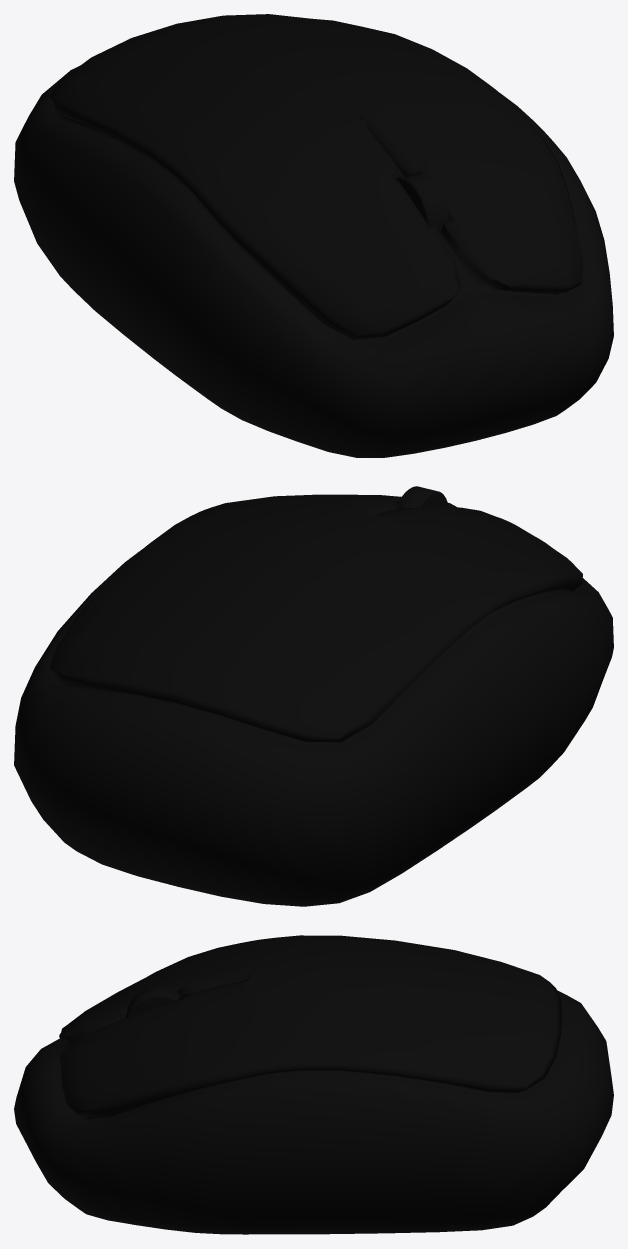
File: MouseV2.fbx
3 views of the same model, one above another, from view 1: azimuth 30°, elevation 25°; view 2: azimuth 150°, elevation 25°; view 3: azimuth 270°, elevation 25° (orthographic). The views are drawn at different scales.
Parts seen in each view (by area): view 1: Cube; view 2: Cube; view 3: Cube.
Boxes of the visible parts, x1,y1,x2,y2 form: Cube: (14, 14, 613, 457); Cube: (14, 486, 613, 906); Cube: (14, 935, 613, 1234).
Size of the model in its own units: 406 by 235 by 627.
